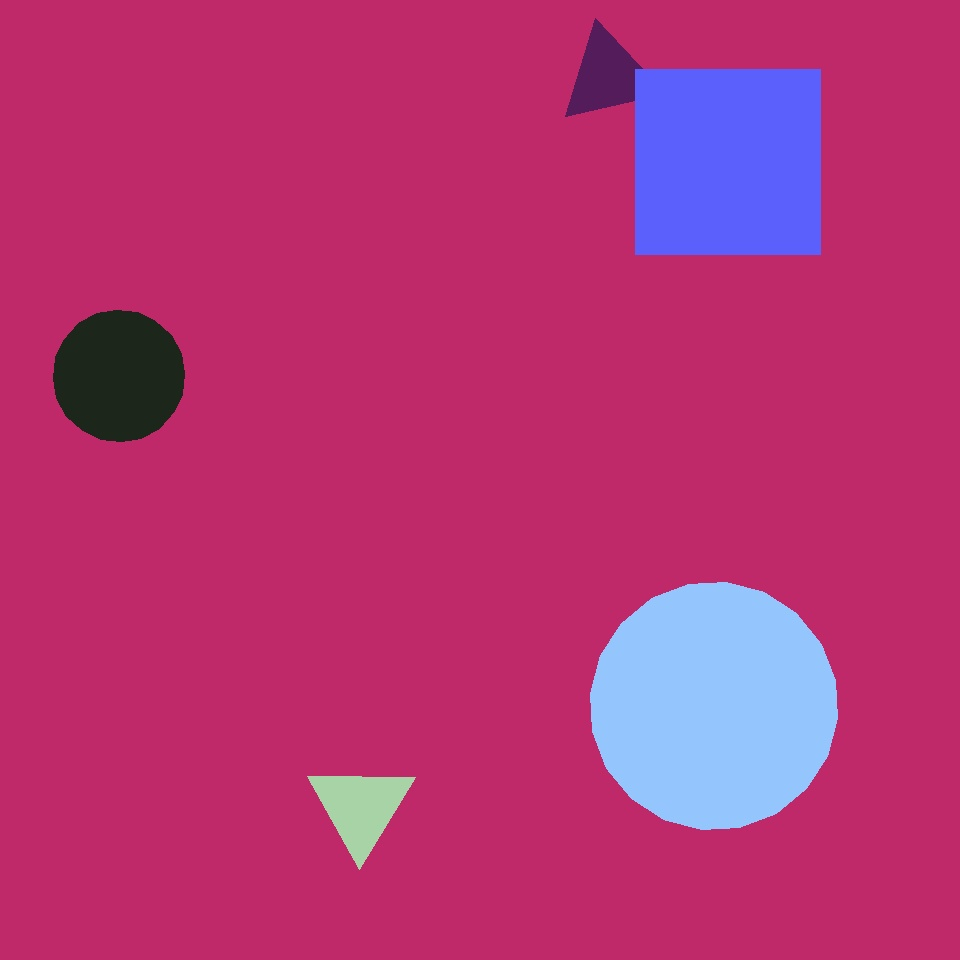circle: (518, 162, 733, 364), (307, 762, 415, 854), (559, 27, 659, 125), (12, 171, 100, 255)
square: (396, 300, 590, 494), (636, 70, 820, 255), (684, 627, 820, 764)
triangle: (590, 582, 838, 830), (54, 310, 184, 442)
